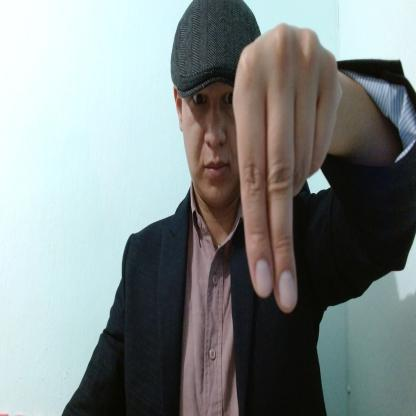N: (233, 23, 347, 316)
